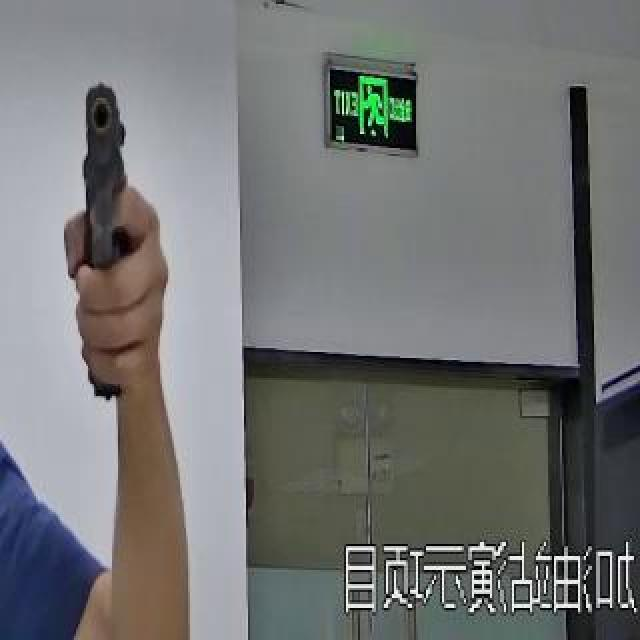Guns: (42, 62, 164, 410)
